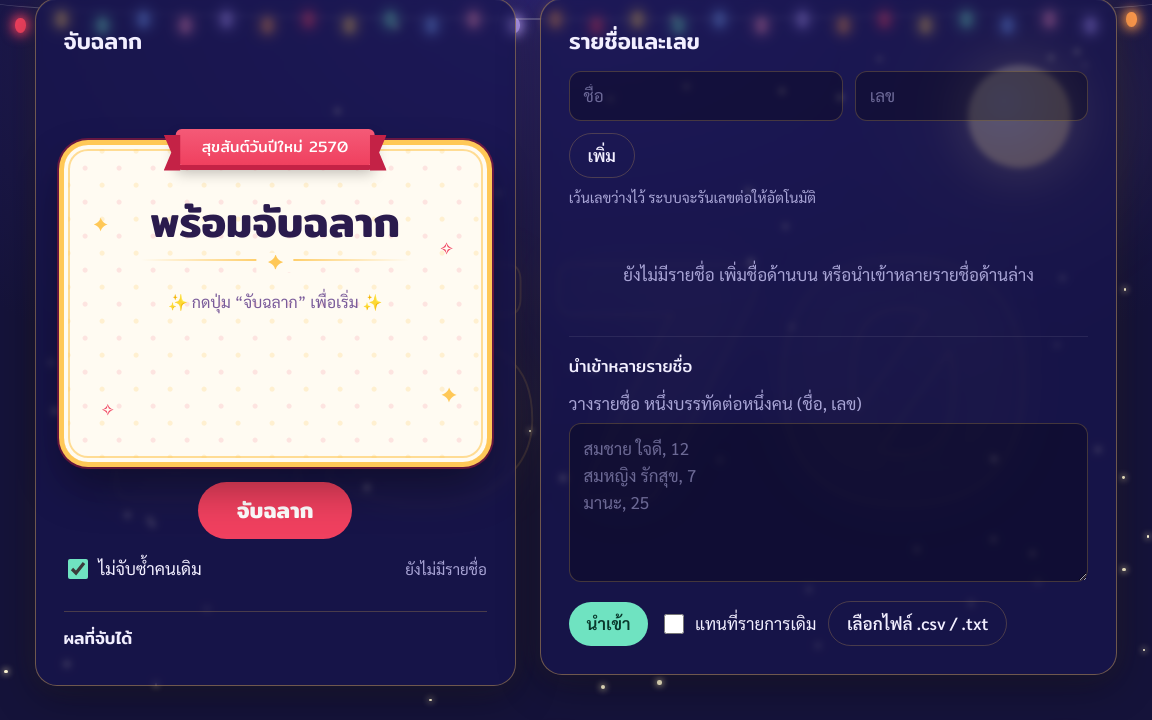
Test case: นำเข้ารายชื่อ › แจ้งเตือนเมื่อไม่มีรายการที่ใช้ได้ และไม่ล้างช่องข้อความ
(page scrolled)
Type "," into the text box labelled "วางรายชื่อ หนึ่งบรรทัดต่อหนึ่งคน (ชื่อ, เลข)" at point(829, 503), box [569,423,1088,582]
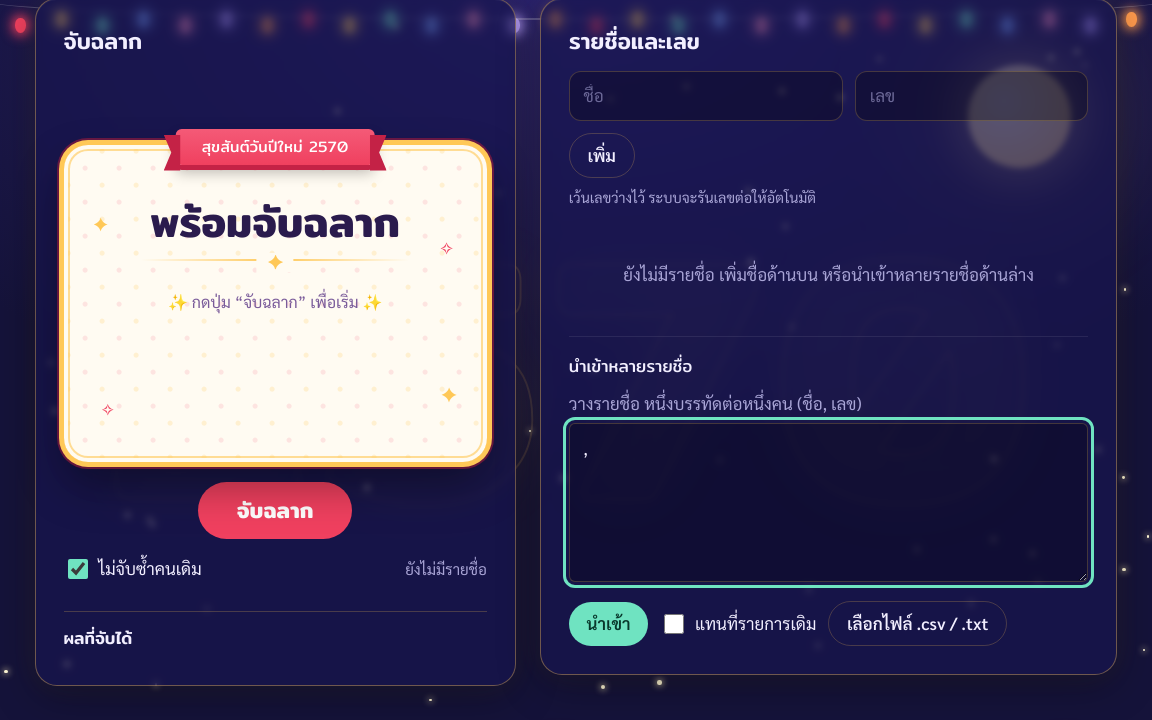
Click the button "นำเข้า" at point(608, 624), box [569,602,648,646]
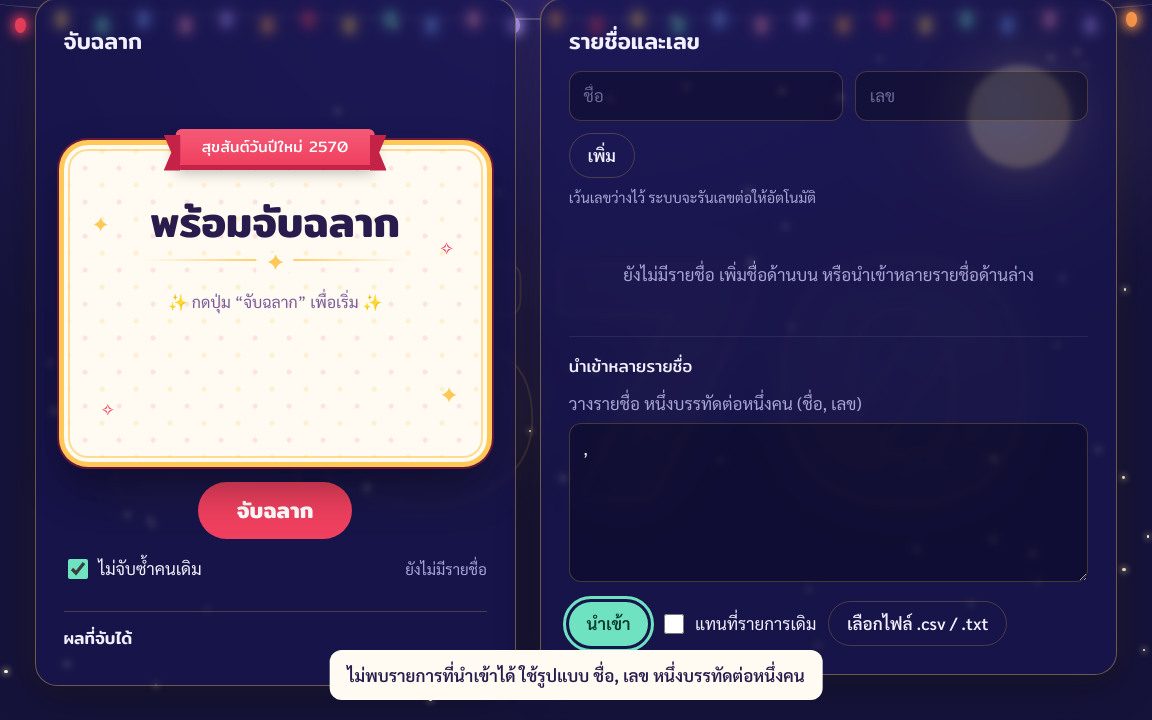
Expected: the text "ไม่พบรายการที่นำเข้าได้ ใช้รูปแบบ ชื่อ, เลข หนึ่งบรรทัดต่อหนึ่งคน" is shown, [330,650,822,700]
